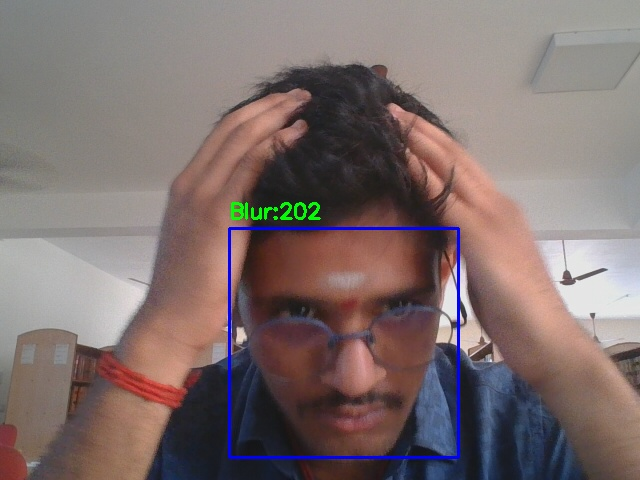real: (229, 228, 458, 457)
